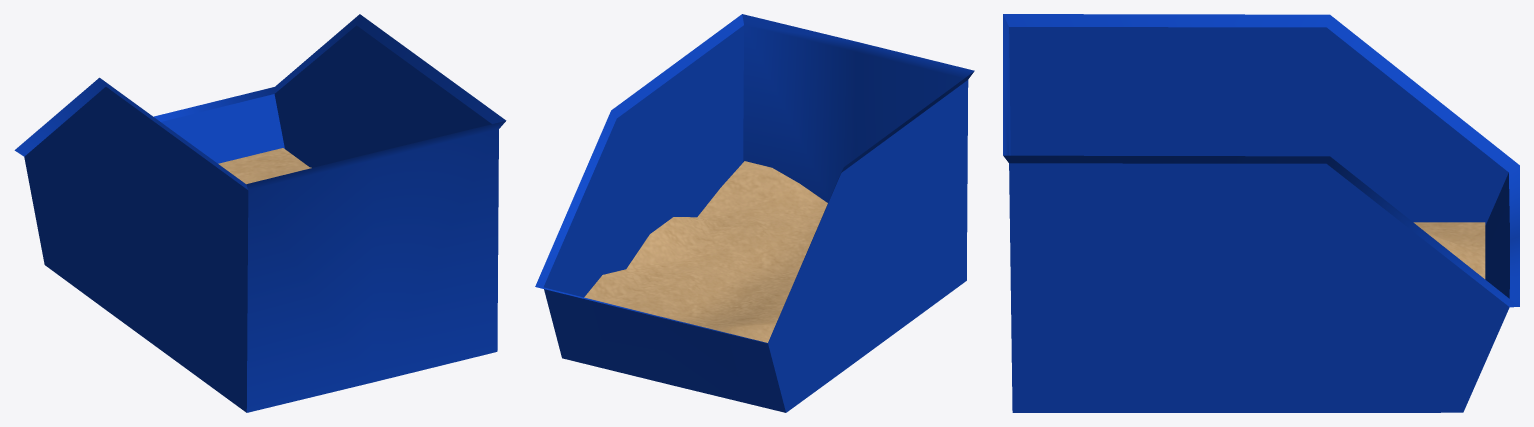
Rendered from 3_SandMining_Container.fbx.
3 views of the same model, side by side, from view 1: azimuth 30°, elevation 25°; view 2: azimuth 150°, elevation 25°; view 3: azimuth 270°, elevation 25° (orthographic). The views are drawn at different scales.
Visible parts, largest first — view 1: SandContainer; view 2: SandContainer; view 3: SandContainer.
Boxes of the visible parts, x1,y1,x2,y2 form: SandContainer: (14,14,506,412); SandContainer: (535,14,974,412); SandContainer: (1003,14,1519,412).
Bounding box in the file's own units: 160 × 247 × 137.
